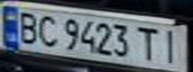2: (93, 19, 115, 56)
3: (112, 20, 136, 60)
4: (78, 18, 100, 54)
9: (57, 16, 81, 52)
B: (12, 8, 42, 44)
C: (33, 11, 60, 47)
I: (157, 26, 187, 64)
T: (133, 24, 163, 62)
